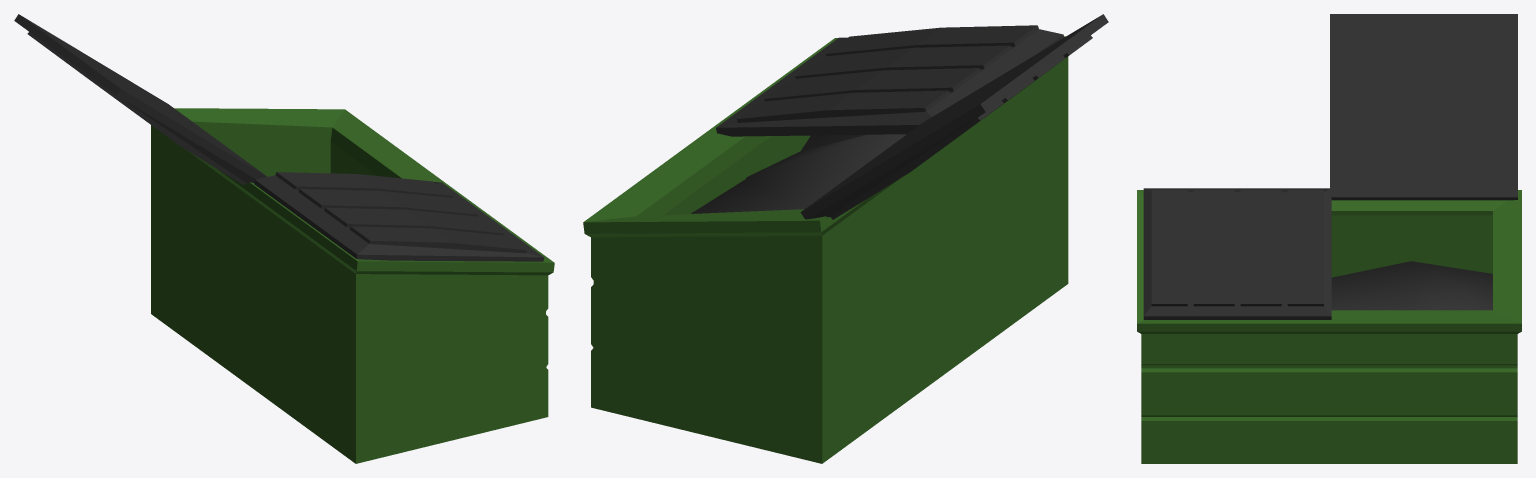
The model's file is DumpsterAjar.fbx.
The picture shows the model from 3 angles, left to right: view 1: azimuth 30°, elevation 25°; view 2: azimuth 150°, elevation 25°; view 3: azimuth 270°, elevation 25°; orthographic projection. The views are drawn at different scales.
Visible parts, largest first — view 1: Cube.038, Cube.029, Cube.037; view 2: Cube.038, Cube.029, Cube.037, Cube.156; view 3: Cube.038, Cube.037, Cube.029, Cube.156.
Boxes of the visible parts, bbox=[...] form: Cube.038: bbox=[151, 108, 554, 463]; Cube.029: bbox=[254, 172, 544, 261]; Cube.037: bbox=[14, 14, 267, 185]; Cube.038: bbox=[583, 36, 1068, 463]; Cube.029: bbox=[716, 25, 1063, 136]; Cube.037: bbox=[800, 14, 1108, 219]; Cube.156: bbox=[691, 134, 906, 213]; Cube.038: bbox=[1137, 190, 1521, 463]; Cube.037: bbox=[1330, 14, 1517, 200]; Cube.029: bbox=[1143, 188, 1331, 319]; Cube.156: bbox=[1331, 261, 1492, 310].
Bounding box in the file's own units: 677 × 645 × 739.
